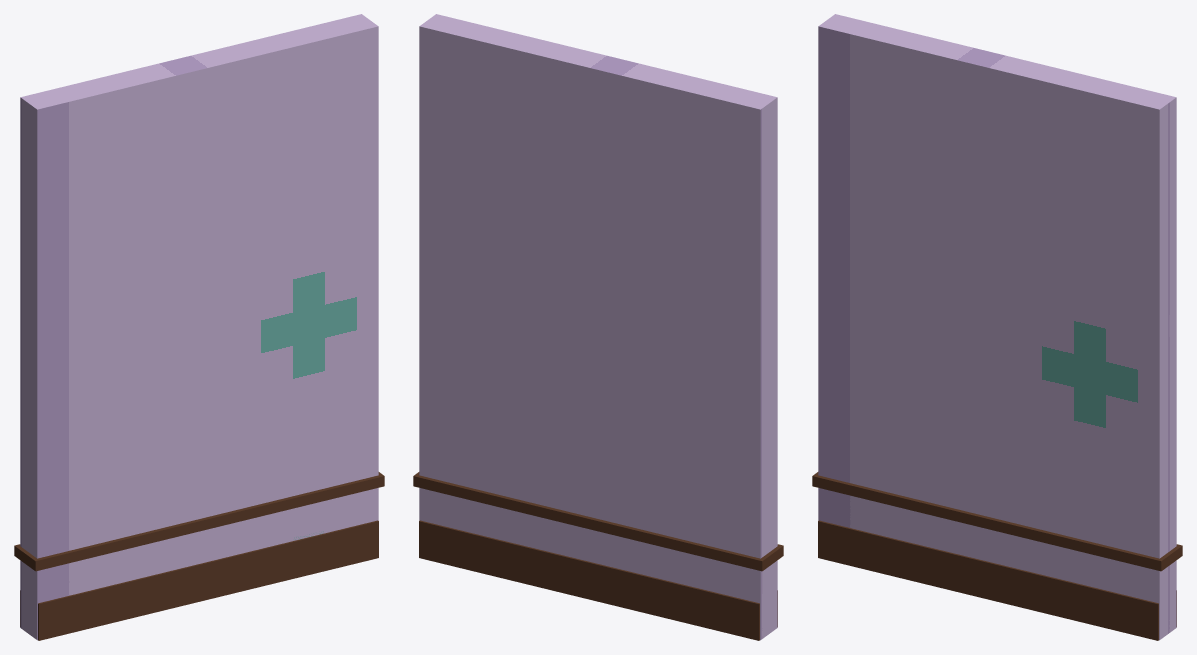
The model's file is laundry_north.glb.
The picture shows the model from 3 angles, left to right: view 1: azimuth 30°, elevation 25°; view 2: azimuth 150°, elevation 25°; view 3: azimuth 330°, elevation 25°; orthographic projection.
Visible parts, largest first — view 1: Box1, Box2, Box4, Box3; view 2: Box1, Box2, Box4, Box3; view 3: Box1, Box2, Box4, Box3.
Boxes of the visible parts, bbox=[...] form: Box1: bbox=[20, 14, 378, 640]; Box2: bbox=[20, 520, 378, 640]; Box4: bbox=[14, 472, 384, 571]; Box3: bbox=[20, 490, 377, 639]; Box1: bbox=[419, 14, 777, 640]; Box2: bbox=[419, 520, 777, 640]; Box4: bbox=[413, 472, 783, 571]; Box3: bbox=[419, 490, 777, 638]; Box1: bbox=[818, 14, 1176, 640]; Box2: bbox=[818, 520, 1176, 640]; Box4: bbox=[812, 472, 1182, 571]; Box3: bbox=[818, 490, 1176, 638].
Size of the model in its own units: 1.79 by 2.6 by 0.19.
2 materials, 1 textured.
